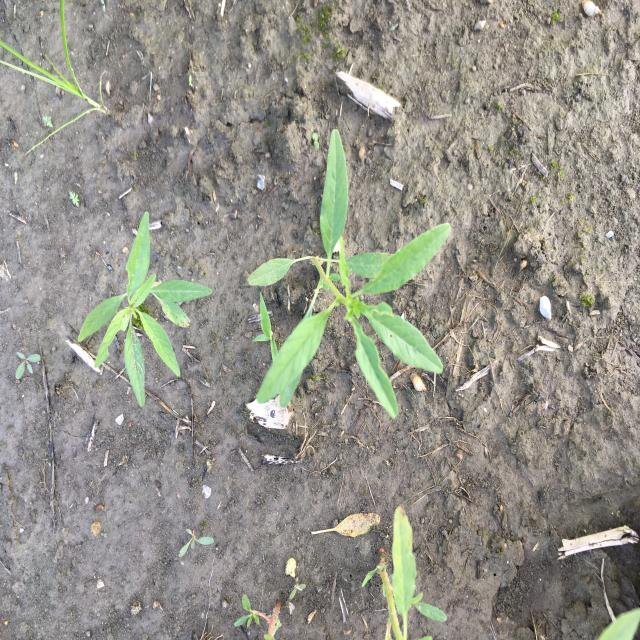Waterhemp: (246, 127, 453, 421), (76, 209, 214, 410)
